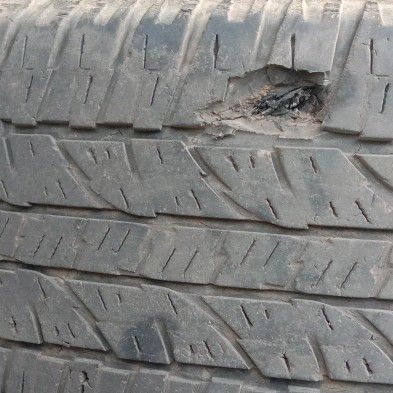tr: (189, 62, 334, 144)
